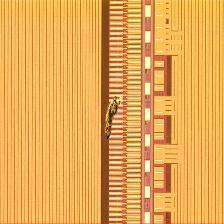PARTICLE: (101, 93, 125, 143)
